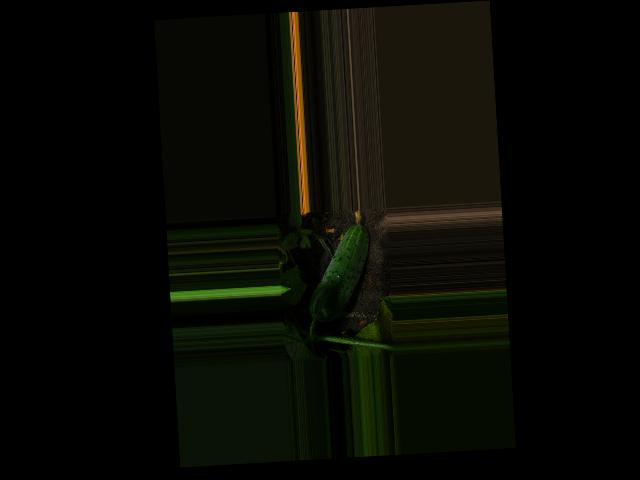cucumber: (303, 209, 374, 323)
